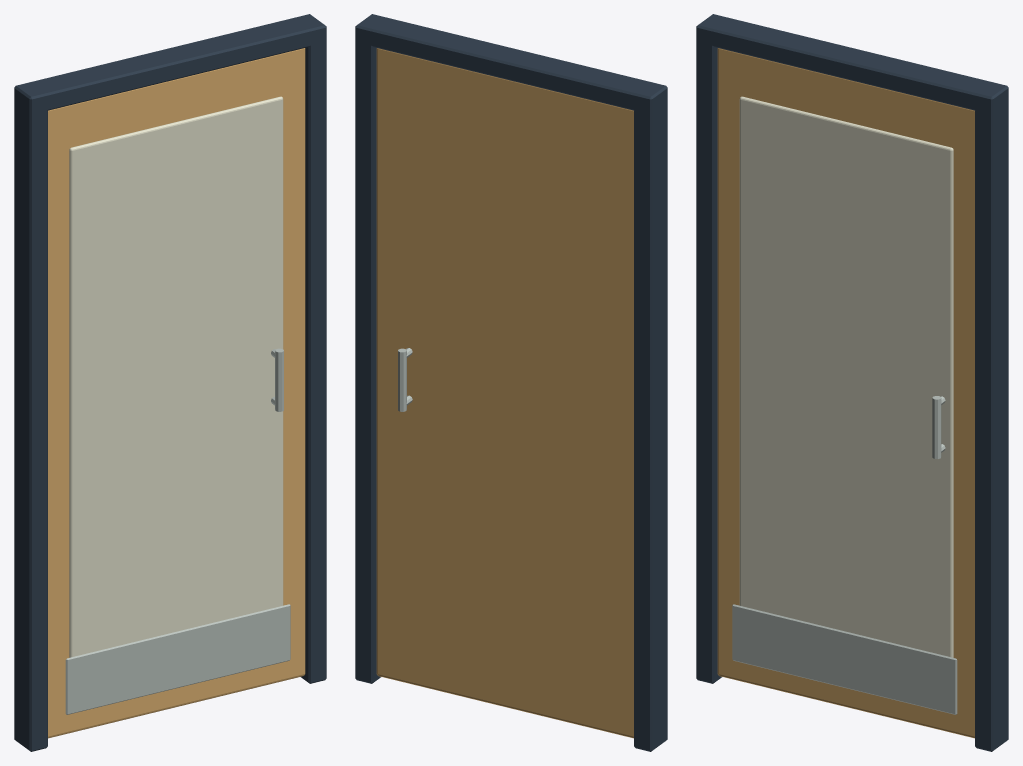
The model's file is door_interior.glb.
The picture shows the model from 3 angles, left to right: view 1: azimuth 30°, elevation 25°; view 2: azimuth 150°, elevation 25°; view 3: azimuth 330°, elevation 25°; orthographic projection.
Visible parts, largest first — view 1: door_interior__paper, door_interior__metal, door_interior__oak_light, door_interior__steel; view 2: door_interior__oak_light, door_interior__metal, door_interior__steel; view 3: door_interior__paper, door_interior__metal, door_interior__oak_light, door_interior__steel.
Part boxes in pixels (<box>): door_interior__paper: <box>69,96,283,657</box>; door_interior__metal: <box>14,14,326,751</box>; door_interior__oak_light: <box>48,48,305,738</box>; door_interior__steel: <box>65,348,290,714</box>; door_interior__oak_light: <box>376,48,633,738</box>; door_interior__metal: <box>355,14,667,751</box>; door_interior__steel: <box>398,348,412,411</box>; door_interior__paper: <box>739,96,953,657</box>; door_interior__metal: <box>696,14,1008,751</box>; door_interior__oak_light: <box>717,48,974,738</box>; door_interior__steel: <box>732,396,957,714</box>.
Size of the model in its own units: 1.05 by 2.2 by 0.178.
